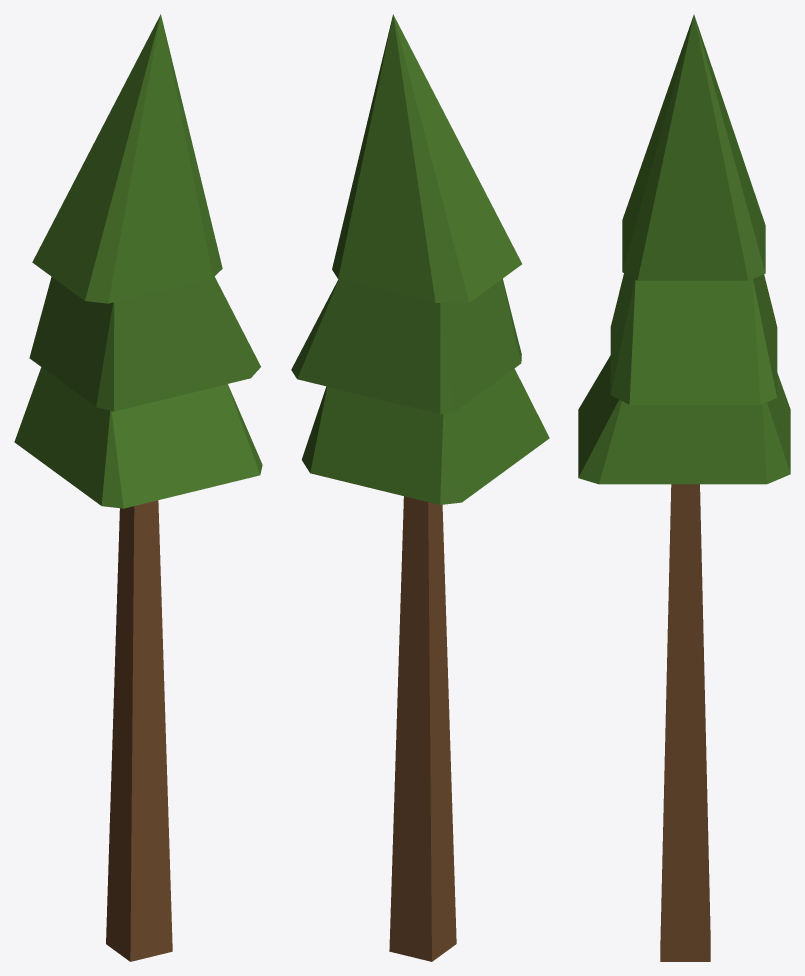
Rendered from tree_pineTallB.glb.
The picture shows the model from 3 angles, left to right: view 1: azimuth 30°, elevation 25°; view 2: azimuth 150°, elevation 25°; view 3: azimuth 270°, elevation 25°; orthographic projection. The views are drawn at different scales.
Visible parts, largest first — view 1: tree_pineTallB; view 2: tree_pineTallB; view 3: tree_pineTallB.
Part boxes in pixels (left/top/right/bottom): tree_pineTallB: left=14, top=14, right=262, bottom=961; tree_pineTallB: left=291, top=14, right=549, bottom=961; tree_pineTallB: left=578, top=14, right=790, bottom=961.
Bounding box in the file's own units: 0.3863 × 1.93 × 0.392.
